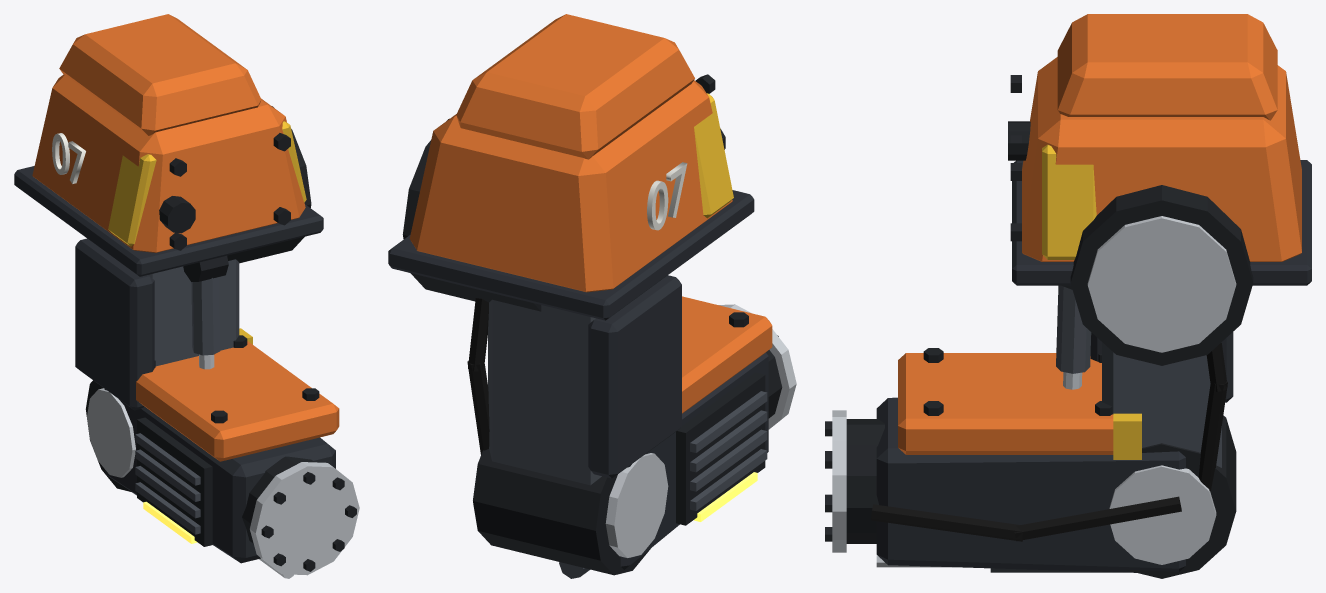
Rendered from arm_R_mk1.glb.
The picture shows the model from 3 angles, left to right: view 1: azimuth 30°, elevation 25°; view 2: azimuth 150°, elevation 25°; view 3: azimuth 270°, elevation 25°; orthographic projection. The views are drawn at different scales.
Parts seen in each view (by area): view 1: armor_pauldron_R, armor_pauldron_top_R, armor_forearm_R, armor_bicep_R, wrist_ring_R, forearm_R, pauldron_rim_R, upper_arm_R, forearm_vent_R_frame, forearm_vent_R, elbow_rings_R, pauldron_stripe_R (+10 smaller); view 2: armor_pauldron_R, armor_pauldron_top_R, upper_arm_R, armor_bicep_R, elbow_cap_R, pauldron_rim_R, armor_forearm_R, elbow_rings_R, forearm_vent_R_frame, forearm_vent_R, forearm_R, pauldron_stripe_R (+6 smaller); view 3: armor_pauldron_R, forearm_R, armor_pauldron_top_R, armor_forearm_R, shoulder_servo_R, shoulder_cap_R, upper_arm_R, elbow_rings_R, forearm_cable_R, pauldron_stripe_R, pauldron_rim_R, wrist_R (+9 smaller).
Boxes of the visible parts, x1=… form: armor_pauldron_R: x1=32, y1=74, x2=305, y2=252; armor_pauldron_top_R: x1=59, y1=14, x2=261, y2=135; armor_forearm_R: x1=136, y1=341, x2=339, y2=461; armor_bicep_R: x1=75, y1=238, x2=154, y2=410; wrist_ring_R: x1=250, y1=462, x2=359, y2=575; forearm_R: x1=104, y1=389, x2=335, y2=563; pauldron_rim_R: x1=14, y1=166, x2=323, y2=276; upper_arm_R: x1=148, y1=259, x2=239, y2=366; forearm_vent_R_frame: x1=137, y1=417, x2=212, y2=546; forearm_vent_R: x1=135, y1=433, x2=200, y2=534; elbow_rings_R: x1=87, y1=388, x2=135, y2=477; pauldron_stripe_R: x1=108, y1=121, x2=306, y2=246; armor_pauldron_R: x1=409, y1=80, x2=732, y2=292; armor_pauldron_top_R: x1=456, y1=14, x2=694, y2=159; upper_arm_R: x1=488, y1=299, x2=601, y2=485; armor_bicep_R: x1=588, y1=275, x2=681, y2=478; elbow_cap_R: x1=473, y1=449, x2=650, y2=575; pauldron_rim_R: x1=388, y1=190, x2=754, y2=320; armor_forearm_R: x1=682, y1=296, x2=772, y2=413; elbow_rings_R: x1=605, y1=453, x2=668, y2=557; forearm_vent_R_frame: x1=676, y1=372, x2=765, y2=525; forearm_vent_R: x1=690, y1=391, x2=767, y2=510; forearm_R: x1=620, y1=352, x2=768, y2=569; pauldron_stripe_R: x1=694, y1=93, x2=733, y2=218; armor_pauldron_R: x1=1022, y1=57, x2=1301, y2=261; forearm_R: x1=876, y1=397, x2=1185, y2=572; armor_pauldron_top_R: x1=1057, y1=14, x2=1277, y2=120; armor_forearm_R: x1=898, y1=353, x2=1113, y2=454; shoulder_servo_R: x1=1087, y1=216, x2=1236, y2=352; shoulder_cap_R: x1=1070, y1=185, x2=1253, y2=365; upper_arm_R: x1=1102, y1=342, x2=1221, y2=467; elbow_rings_R: x1=1109, y1=465, x2=1216, y2=564; forearm_cable_R: x1=871, y1=496, x2=1181, y2=541; pauldron_stripe_R: x1=1042, y1=144, x2=1096, y2=259; pauldron_rim_R: x1=1012, y1=160, x2=1311, y2=285; wrist_R: x1=846, y1=419, x2=884, y2=543.
Size of what is drawn, in the model's own units: 0.97 by 2.05 by 1.7.
